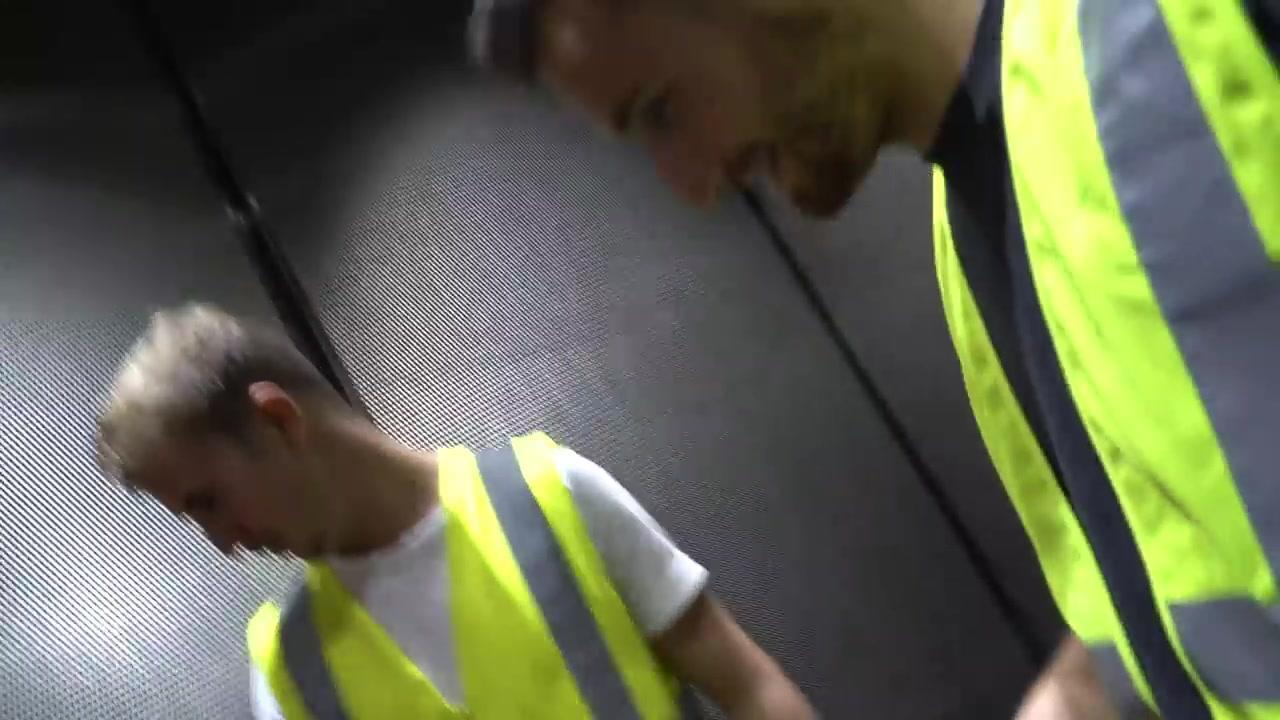Glass: (931, 0, 1279, 702)
